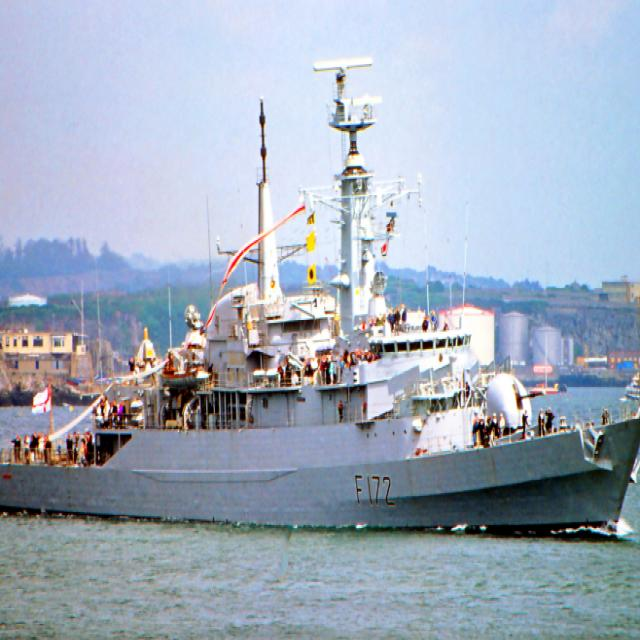Fragata: (1, 45, 640, 542)
